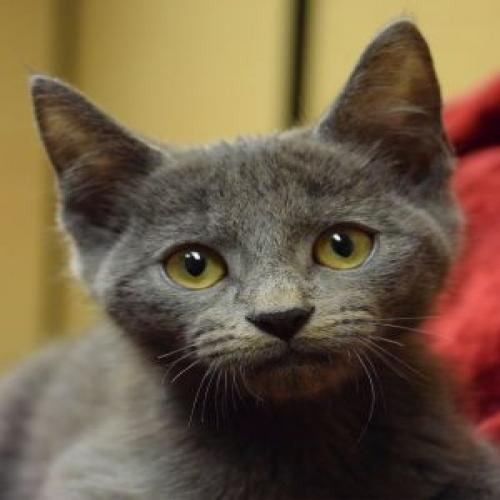rblue: (17, 18, 481, 421)
